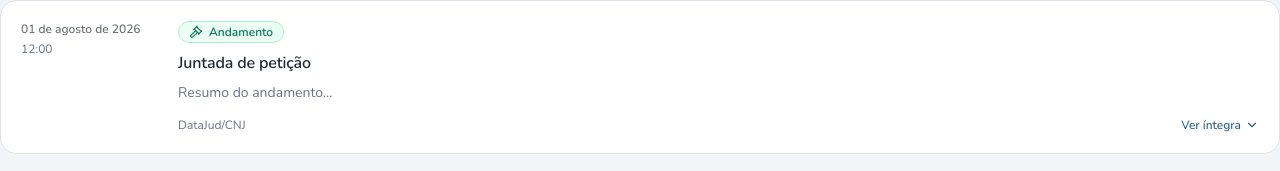
Test case: ProcessoTimeline › exibe os andamentos em lista e permite abrir a íntegra
Expected: the heading "Juntada de petição" is shown, x1=178 y1=52 x2=311 y2=74
Expected: the text "01 de agosto de 2026" is shown, x1=21 y1=21 x2=141 y2=37
Click the button "Ver íntegra" at point(1220, 125), box x1=1181 y1=117 x2=1259 y2=133
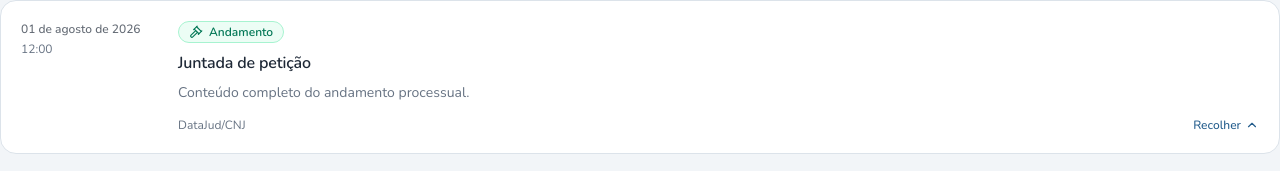
Now the text "Conteúdo completo do andamento processual." is shown, box x1=178 y1=83 x2=469 y2=102
